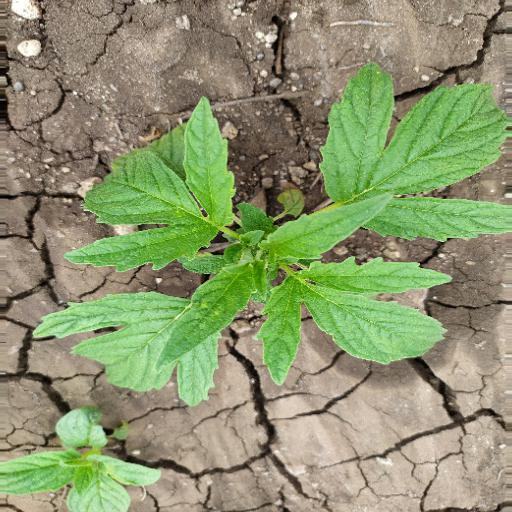crop: (35, 60, 510, 411)
